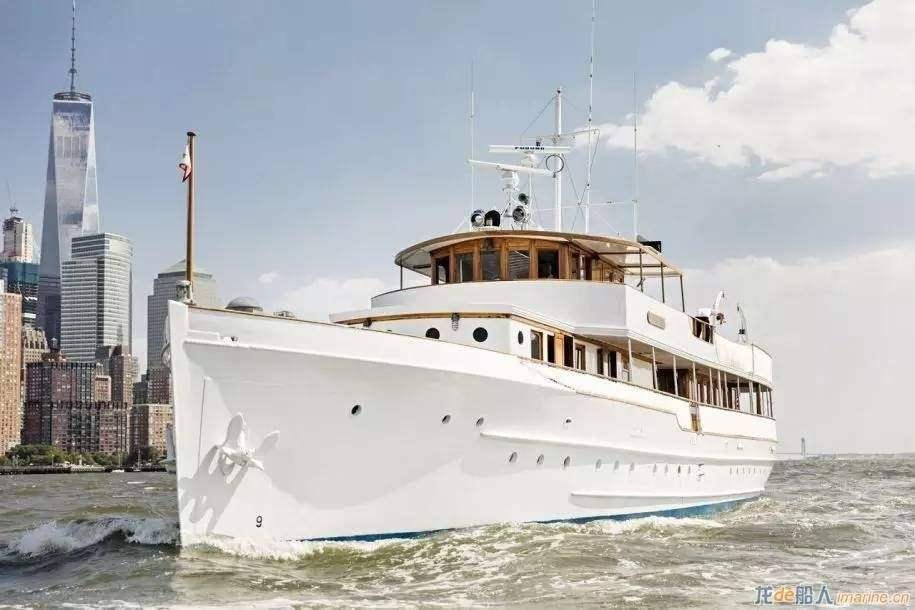yacht: (174, 204, 780, 545)
